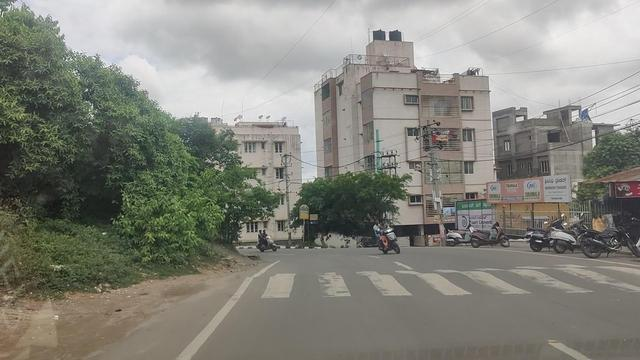SpeedBump: (248, 259, 625, 302)
